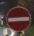No entry: (5, 5, 29, 31)
